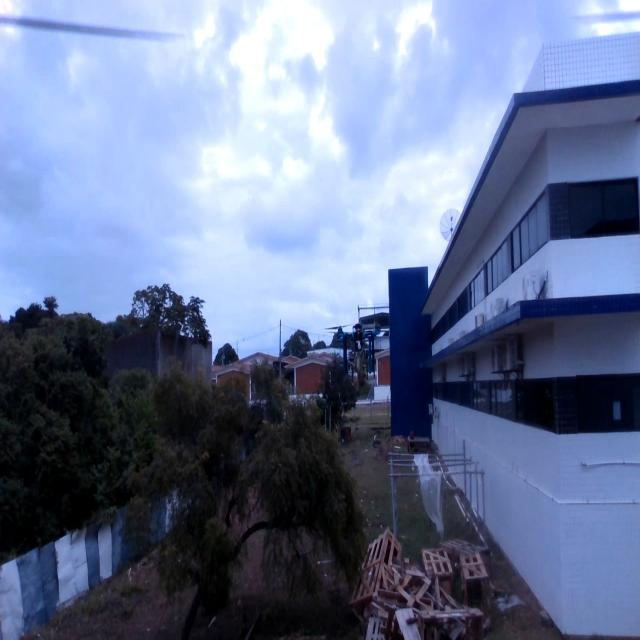-uav-: (326, 314, 383, 384)
